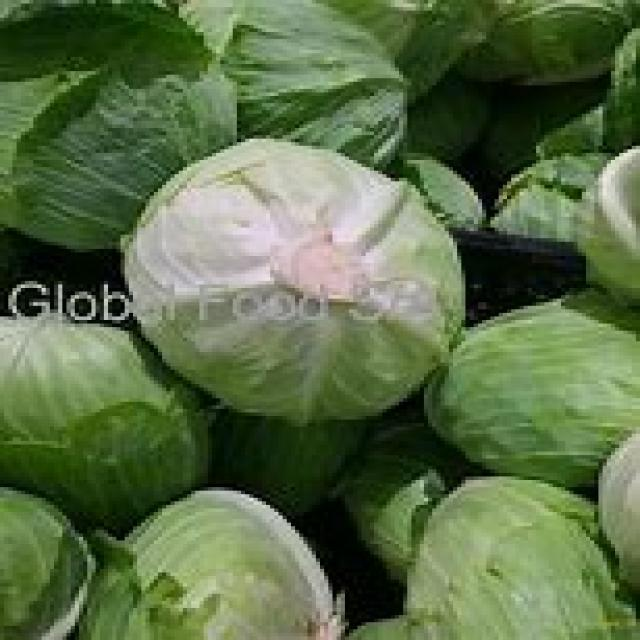cabbage: (129, 143, 468, 417)
